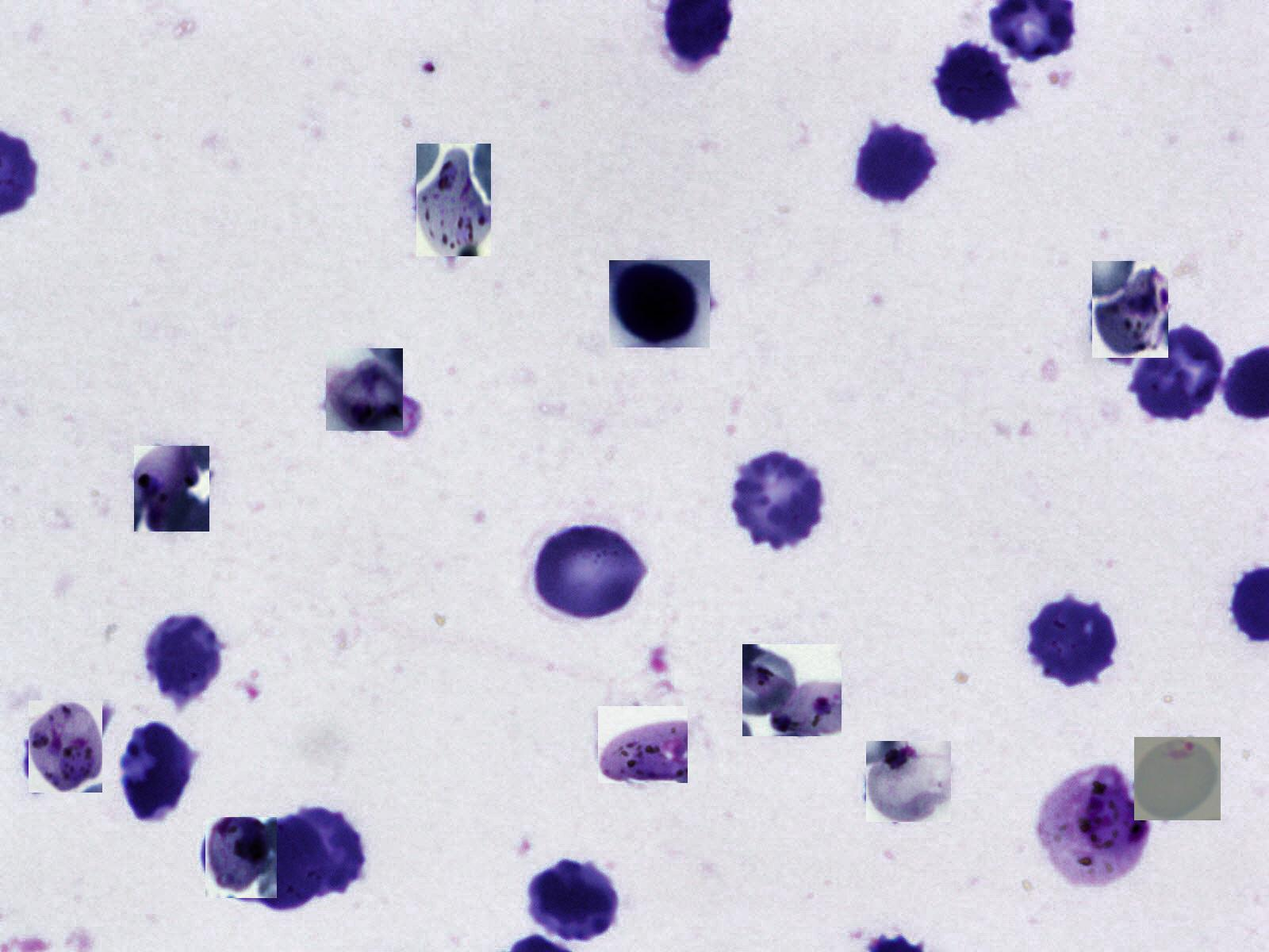Infected: (1039, 764, 1151, 885), (742, 644, 842, 736), (610, 260, 711, 347), (416, 144, 491, 256), (1092, 262, 1168, 359), (1134, 737, 1221, 820), (598, 706, 688, 783), (866, 741, 951, 822), (29, 701, 102, 793), (134, 446, 209, 532), (326, 348, 403, 431), (205, 817, 277, 898)
Uninfected: (531, 524, 644, 621), (727, 451, 823, 553), (1134, 324, 1228, 422), (1030, 593, 1120, 682), (247, 816, 330, 912), (283, 804, 369, 893), (122, 720, 198, 819), (527, 859, 619, 939), (934, 42, 1018, 121), (854, 123, 937, 202), (146, 613, 221, 700)
